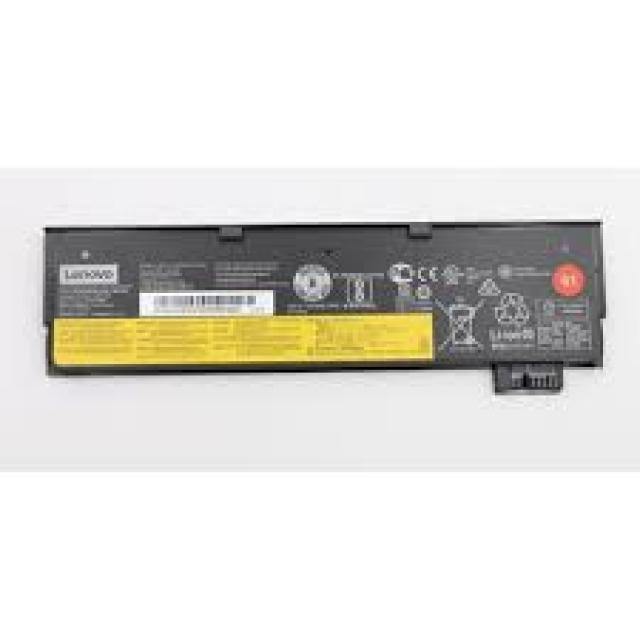Battery: (11, 194, 640, 411)
